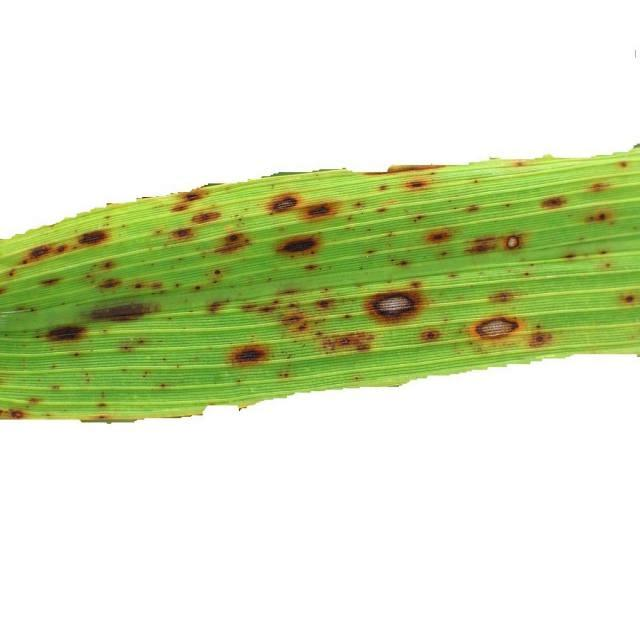Brownspot: (365, 291, 422, 322), (472, 316, 520, 339), (90, 303, 151, 320), (323, 332, 374, 351), (229, 344, 267, 365), (172, 188, 205, 211), (277, 236, 318, 254), (216, 232, 249, 252), (302, 202, 336, 219), (46, 325, 84, 340), (268, 194, 298, 212), (467, 237, 496, 254), (282, 312, 307, 331), (387, 164, 446, 172), (78, 230, 107, 244), (26, 245, 51, 261), (529, 331, 551, 347), (191, 211, 220, 223), (426, 229, 450, 243), (585, 210, 612, 222), (541, 196, 566, 208), (489, 291, 514, 303), (504, 234, 522, 250), (420, 329, 441, 342), (171, 228, 192, 239), (405, 180, 428, 188), (589, 182, 609, 191), (99, 278, 119, 287), (315, 299, 333, 308), (620, 294, 635, 304), (207, 302, 222, 312), (8, 409, 24, 418), (40, 278, 59, 285), (465, 204, 479, 212), (617, 160, 627, 167)
